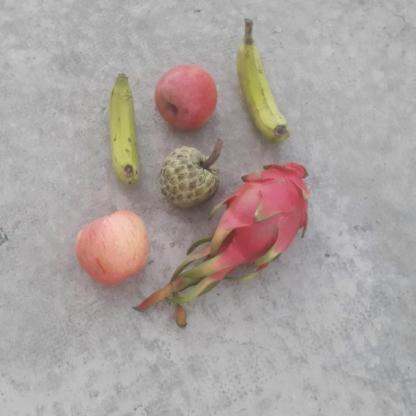annona: (157, 147, 221, 214)
apple: (75, 207, 150, 284), (151, 63, 221, 132)
banana: (239, 39, 290, 143), (102, 70, 146, 189)
pitaya: (223, 160, 311, 270)
